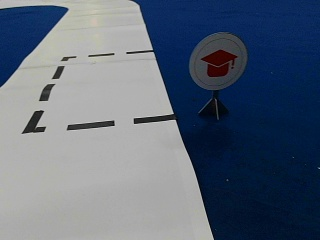school: (189, 32, 247, 89)
